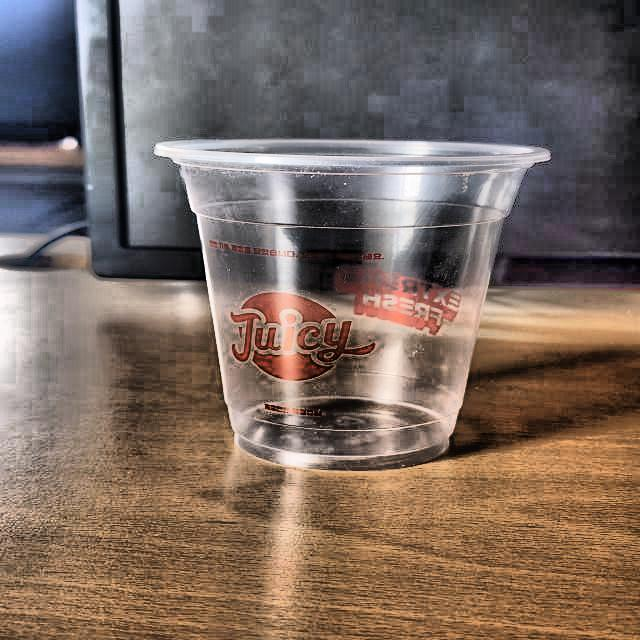plastic cup: (150, 135, 555, 472)
